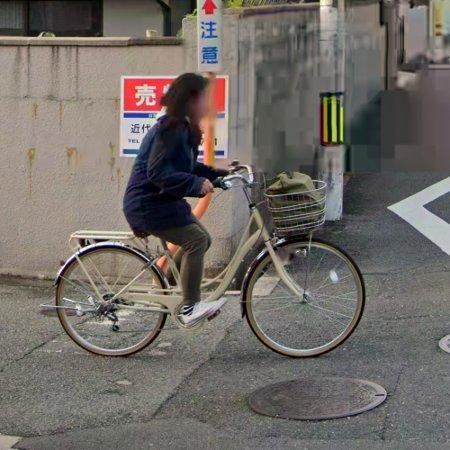bicycles: (203, 174, 366, 358), (52, 231, 183, 357)
